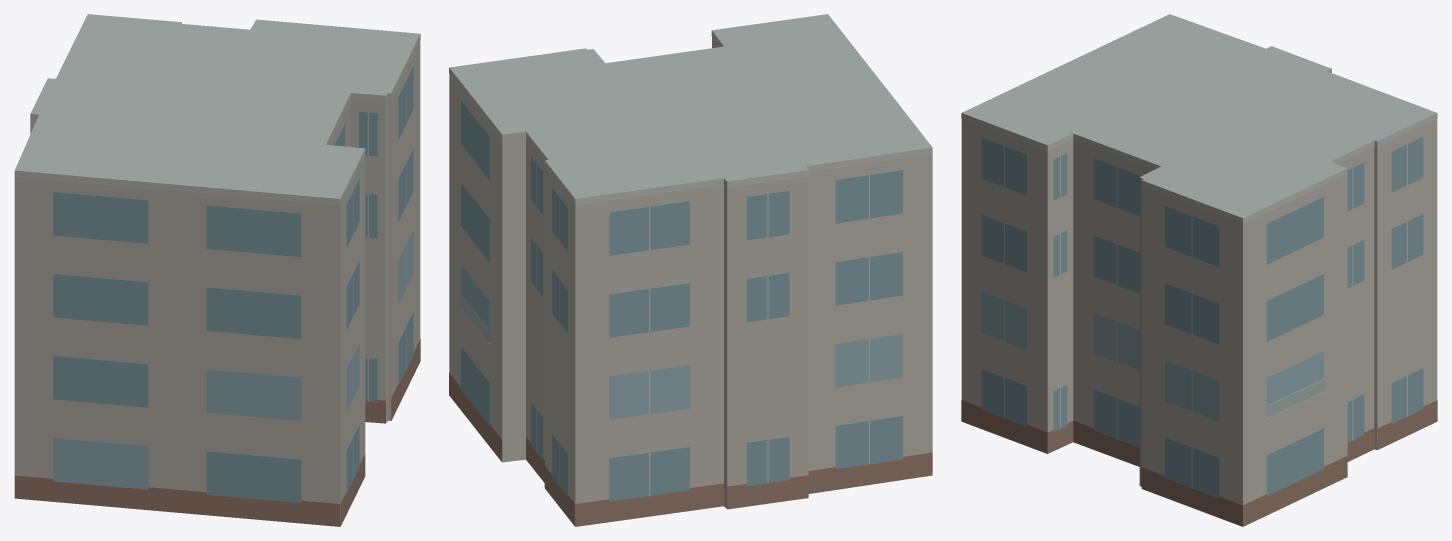
Rendered from survey-upis-32536777.glb.
3 renders of one model, left to right at view 1: azimuth 30°, elevation 25°; view 2: azimuth 150°, elevation 25°; view 3: azimuth 270°, elevation 25°, orthographic. The views are drawn at different scales.
Visible parts, largest first — view 1: survey-upis-32536777.tmp; view 2: survey-upis-32536777.tmp; view 3: survey-upis-32536777.tmp.
Boxes of the visible parts, box(x1,y1,x2,y2) form: survey-upis-32536777.tmp: box(14, 14, 420, 526); survey-upis-32536777.tmp: box(449, 14, 932, 526); survey-upis-32536777.tmp: box(961, 14, 1437, 526).
Size of the model in its own units: 18.1 by 12.75 by 17.82.
